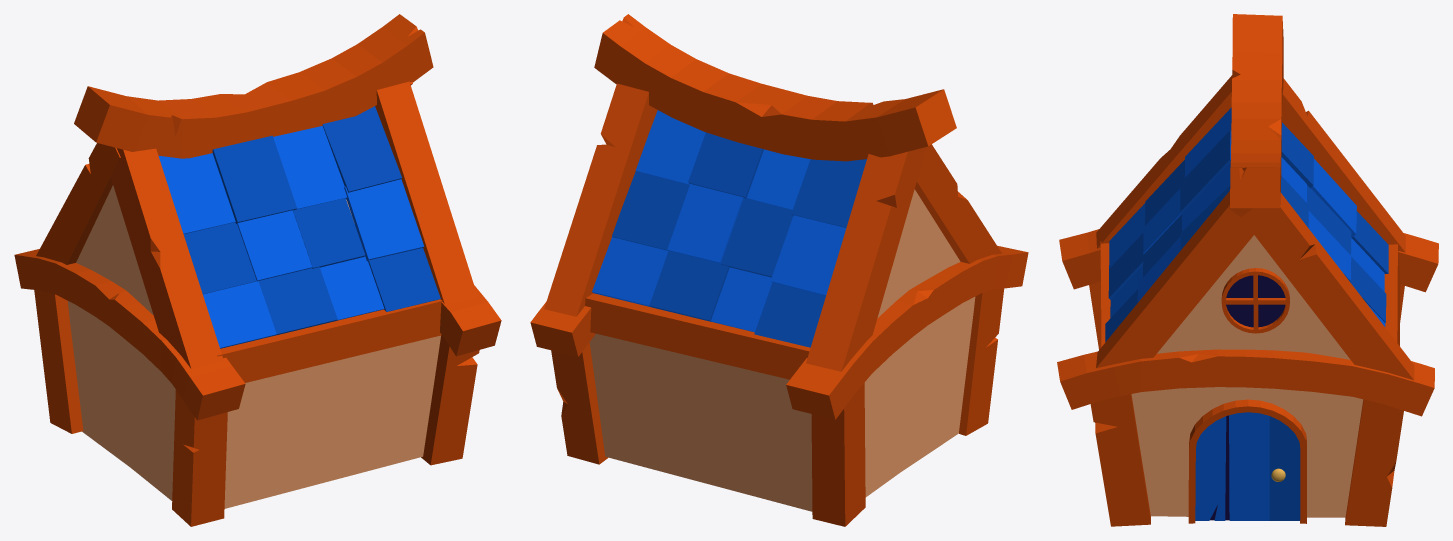
Rendered from house.fbx.
3 renders of one model, left to right at view 1: azimuth 30°, elevation 25°; view 2: azimuth 150°, elevation 25°; view 3: azimuth 270°, elevation 25°, orthographic. The views are drawn at different scales.
Parts seen in each view (by area): view 1: PAREDES, Cubo.004, Cubo.007, Cubo.026, Cubo.008, Cubo.009, Cubo.013, Cubo.031, Cubo.003, Cubo.012, Cubo.006, Cubo.027 (+11 smaller); view 2: PAREDES, Cubo.004, Cubo.006, Cubo.026, Cubo.005, Cubo.011, Cubo.012, Cubo.007, Cubo.002, Cubo.015, Cubo.013, Cubo.024 (+11 smaller); view 3: PAREDES, Cubo.001, puerta, Cubo.005, Cubo.004, Cubo.008, Cubo.003, Cubo.002, Cubo.006, Cubo.007, Cubo.026, ventana circular (+24 smaller).
Boxes of the visible parts, x1,y1,x2,y2 form: PAREDES: (68,185,440,508); Cubo.004: (74,14,433,158); Cubo.007: (111,148,223,369); Cubo.026: (14,249,245,420); Cubo.008: (375,81,477,303); Cubo.009: (217,299,442,382); Cubo.013: (172,390,227,526); Cubo.031: (212,135,297,223); Cubo.003: (421,335,479,465); Cubo.012: (34,290,83,433); Cubo.006: (36,143,120,264); Cubo.027: (344,179,424,261); PAREDES: (589,189,975,511); Cubo.004: (594,14,956,161); Cubo.006: (806,147,926,371); Cubo.026: (786,246,1028,419); Cubo.005: (544,83,657,316); Cubo.011: (585,293,810,379); Cubo.012: (811,383,865,526); Cubo.007: (914,144,1001,263); Cubo.002: (551,342,607,464); Cubo.015: (770,215,846,295); Cubo.013: (959,288,1004,435); Cubo.024: (612,171,689,250); PAREDES: (1131,235,1363,517); Cubo.001: (1057,349,1434,416); puerta: (1188,399,1306,523); Cubo.005: (1228,192,1414,380); Cubo.004: (1230,14,1283,208); Cubo.008: (1096,191,1253,368); Cubo.003: (1090,394,1150,526); Cubo.002: (1345,399,1403,526); Cubo.006: (1282,78,1405,252); Cubo.007: (1096,75,1232,248); Cubo.026: (1059,229,1438,292); ventana circular: (1221,268,1289,333).
Size of the model in its own units: 766 by 831 by 767.
